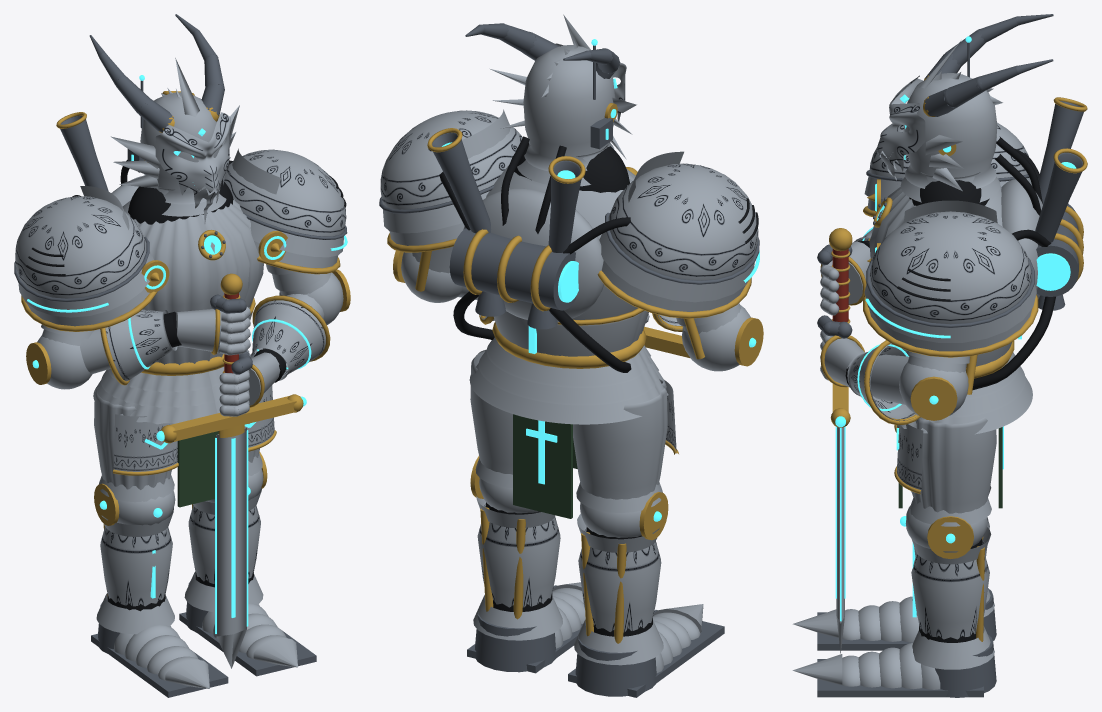
File: techno_plate_knight.glb
3 renders of one model, left to right at view 1: azimuth 30°, elevation 25°; view 2: azimuth 150°, elevation 25°; view 3: azimuth 270°, elevation 25°, orthographic. The views are drawn at different scales.
Visible parts, largest first — view 1: pauldron_dome (×2), breastplate, greave (×2), gauntlet_cuff (×2), blade, pauldron (×2), beast_mask, tasset (×2), ankle_guard (×2), helmet, sole (×2), elbow_cop (×2) (+34 smaller); view 2: pauldron_dome (×2), greave (×2), cuisse (×2), helmet, pauldron (×2), heel (×2), reactor_drum, pack_mount, cloth_back, exhaust_stack (×2), ankle_guard (×2), fauld_lame_2 (+27 smaller); view 3: pauldron_dome (×2), cuisse, helmet, greave, pauldron (×2), exhaust_stack (×2), horn (×5), sole (×2), beast_mask, ankle_guard, metacarpal_plate (×2), pack_mount (+35 smaller).
Part boxes in pixels (box(x1,y1,x2,y2)): pauldron_dome (×2): box(15, 149, 346, 298); breastplate: box(122, 197, 263, 312); greave (×2): box(100, 505, 260, 606); gauntlet_cuff (×2): box(100, 300, 325, 381); blade: box(216, 427, 246, 636); pauldron (×2): box(18, 220, 343, 326); beast_mask: box(155, 112, 230, 223); tasset (×2): box(113, 385, 274, 471); ankle_guard (×2): box(96, 571, 263, 634); helmet: box(140, 92, 220, 204); sole (×2): box(91, 612, 316, 697); elbow_cop (×2): box(37, 272, 343, 389); pauldron_dome (×2): box(380, 110, 758, 280); greave (×2): box(477, 502, 661, 632); cuisse (×2): box(470, 350, 667, 499); helmet: box(523, 45, 615, 171); pauldron (×2): box(383, 191, 754, 311); heel (×2): box(475, 612, 656, 696); reactor_drum: box(449, 228, 575, 310); pack_mount: box(463, 188, 603, 322); cloth_back: box(513, 414, 572, 518); exhaust_stack (×2): box(432, 132, 581, 252); ankle_guard (×2): box(473, 595, 663, 665); fauld_lame_2: box(469, 363, 668, 424); pauldron_dome (×2): box(869, 122, 1031, 324); cuisse: box(912, 417, 996, 513); helmet: box(904, 73, 997, 188); greave: box(911, 540, 989, 639); pauldron (×2): box(864, 176, 1036, 351); exhaust_stack (×2): box(1035, 101, 1083, 245); horn (×5): box(925, 17, 1018, 116); sole (×2): box(817, 612, 983, 697); beast_mask: box(877, 75, 925, 191); ankle_guard: box(912, 626, 994, 669); metacarpal_plate (×2): box(821, 241, 870, 387); pack_mount: box(1001, 179, 1042, 299).
Bounding box in the file's own units: 1.16 × 2.06 × 0.8859.
9 materials, 2 textured.
